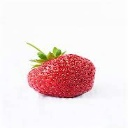strawberry: (27, 47, 97, 98)
